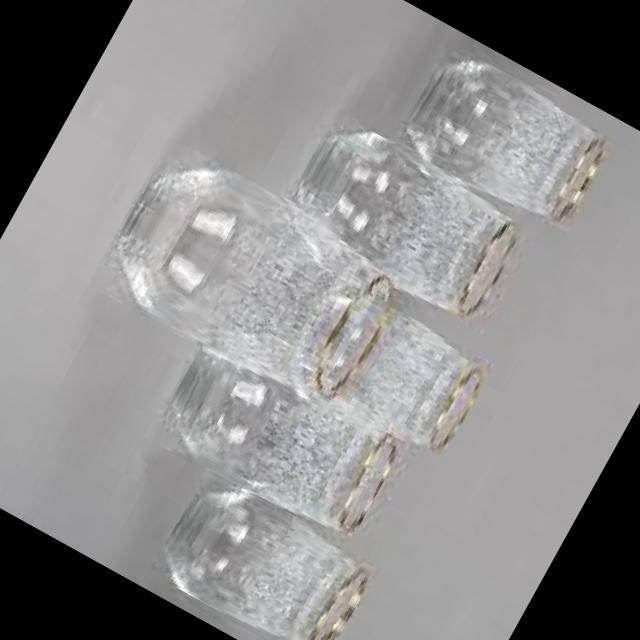Glass: (89, 138, 420, 426), (263, 110, 532, 346), (150, 322, 410, 546), (390, 42, 620, 246), (146, 465, 380, 640), (344, 311, 496, 463)
